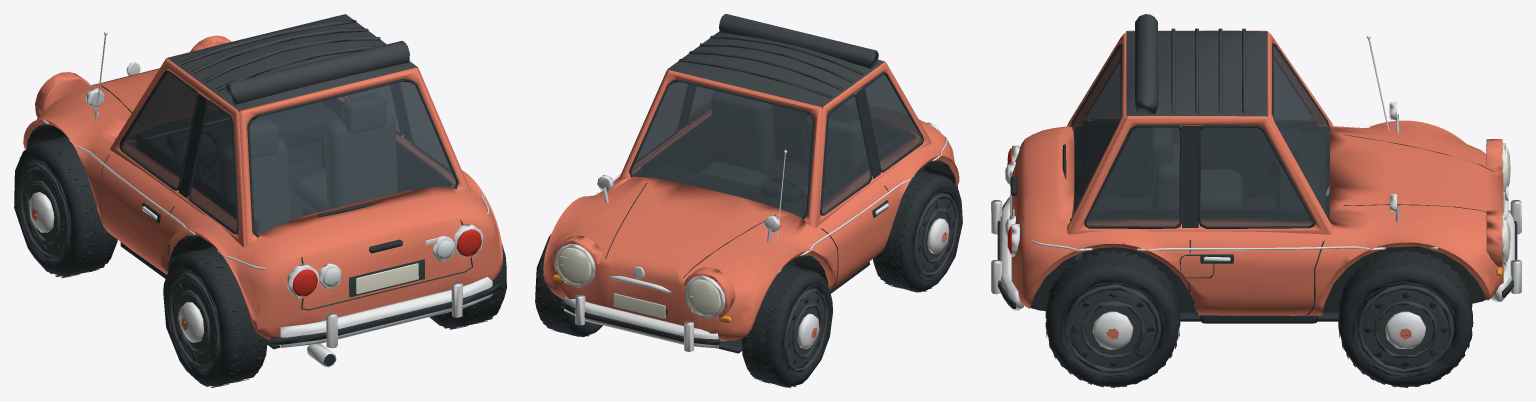
The model's file is pebble_lod2.fbx.
3 renders of one model, left to right at view 1: azimuth 30°, elevation 25°; view 2: azimuth 150°, elevation 25°; view 3: azimuth 270°, elevation 25°, orthographic. The views are drawn at different scales.
Parts seen in each view (by area): view 1: Body, Wheel_RL_Mesh, Wheel_FL_Mesh, Wheel_RR_Mesh; view 2: Body, Wheel_FL_Mesh, Wheel_RL_Mesh, Wheel_FR_Mesh; view 3: Body, Wheel_FR_Mesh, Wheel_RR_Mesh.
Boxes of the visible parts, bbox=[...] form: Body: bbox=[23, 14, 502, 367]; Wheel_RL_Mesh: bbox=[163, 246, 267, 387]; Wheel_FL_Mesh: bbox=[14, 136, 117, 278]; Wheel_RR_Mesh: bbox=[429, 244, 506, 329]; Body: bbox=[543, 14, 959, 353]; Wheel_FL_Mesh: bbox=[742, 265, 832, 387]; Wheel_RL_Mesh: bbox=[873, 170, 962, 292]; Wheel_FR_Mesh: bbox=[535, 234, 602, 337]; Body: bbox=[991, 14, 1521, 323]; Wheel_FR_Mesh: bbox=[1338, 250, 1473, 387]; Wheel_RR_Mesh: bbox=[1045, 250, 1180, 387].
Bounding box in the file's own units: 202 × 176 × 315.
